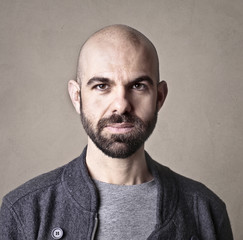young: (70, 26, 168, 157)
